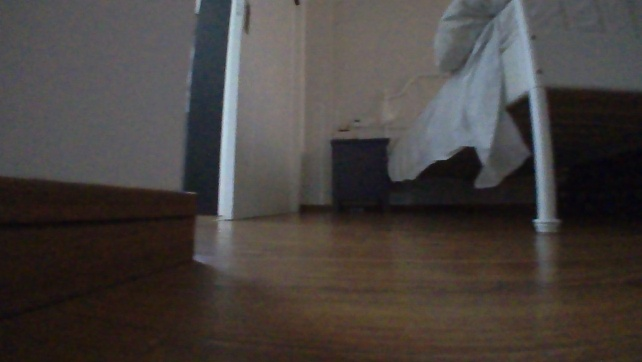bed: (379, 0, 641, 234)
cabinet: (329, 136, 390, 215)
